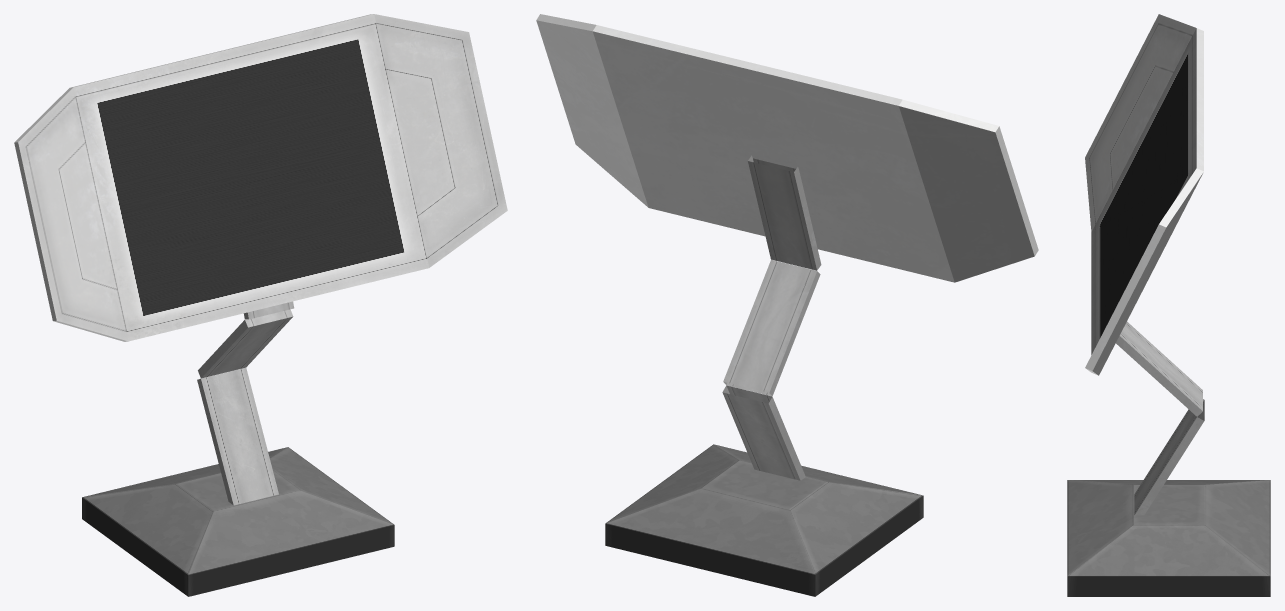
The model's file is moniter.FBX.
3 renders of one model, left to right at view 1: azimuth 30°, elevation 25°; view 2: azimuth 150°, elevation 25°; view 3: azimuth 270°, elevation 25°, orthographic. The views are drawn at different scales.
Visible parts, largest first — view 1: moniter; view 2: moniter; view 3: moniter.
Part boxes in pixels (box(x1,y1,x2,y2)): moniter: box(14, 14, 507, 596); moniter: box(536, 14, 1038, 596); moniter: box(1067, 14, 1270, 596).
Size of the model in its own units: 61.94 by 61.89 by 25.34.
